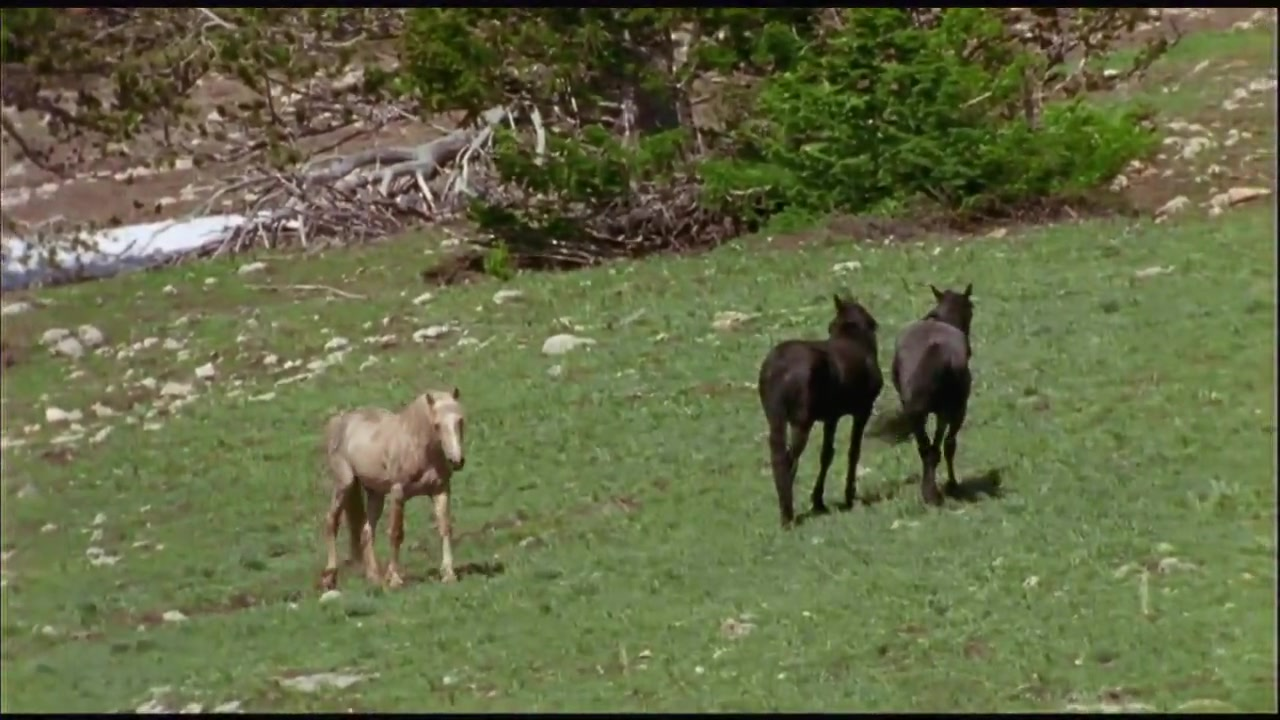horse: (318, 384, 471, 604)
